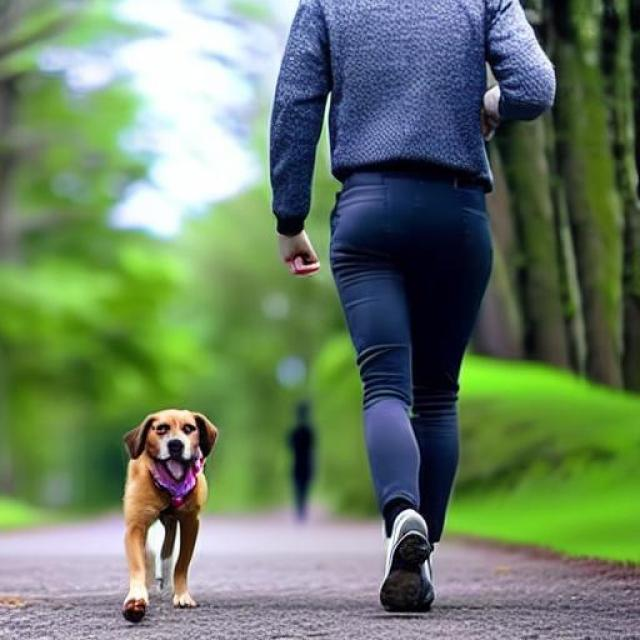Unleashed_Dog: (121, 184, 479, 622)
